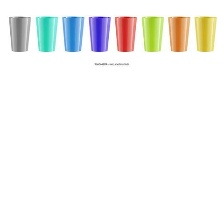glass: (4, 14, 33, 54), (191, 13, 219, 54), (164, 14, 192, 54), (32, 12, 60, 52), (85, 12, 111, 55), (141, 12, 166, 54), (114, 12, 138, 54), (60, 14, 85, 54)
